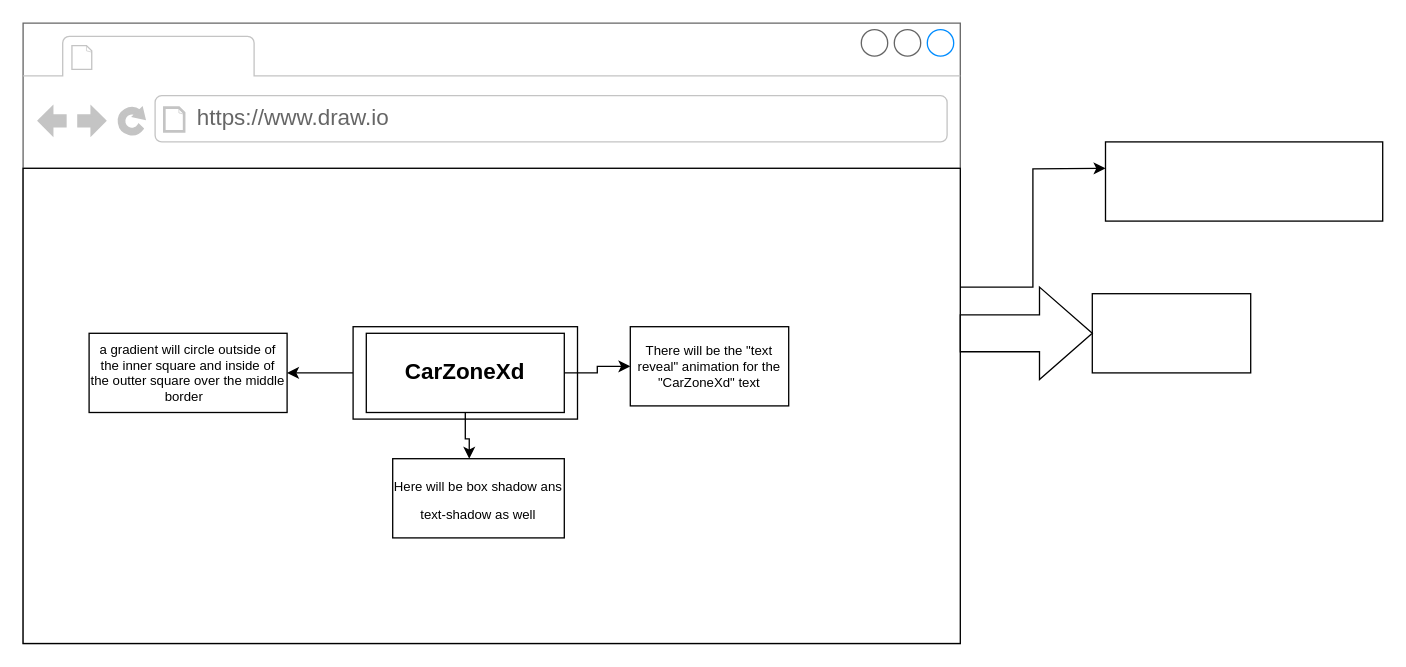
This 1406x667 diagram has some shape labels left out. The shapes that lost their labels are listed below. From the top down, each one's centre as x and y in pixels, then its label:
point (174, 55): Page 1
point (1243, 181): That Pre-loader will be added using a JavaScript event called "load()"
point (1171, 332): Thats website pre-loader
